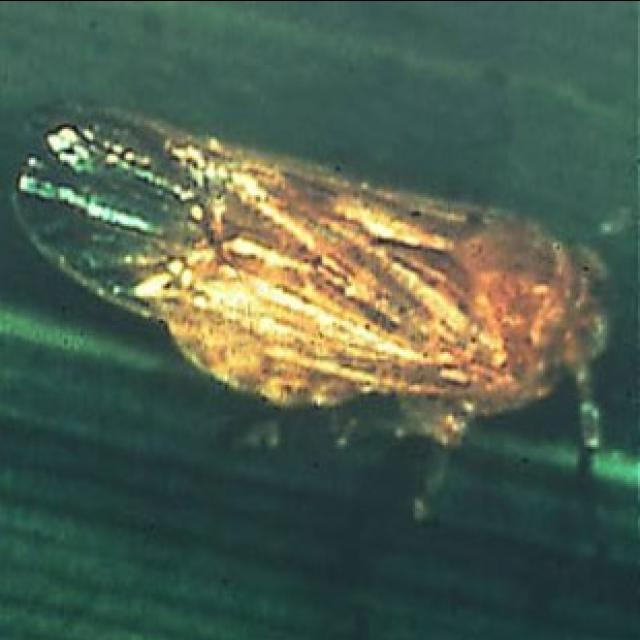brown plant hopper: (19, 111, 607, 465)
